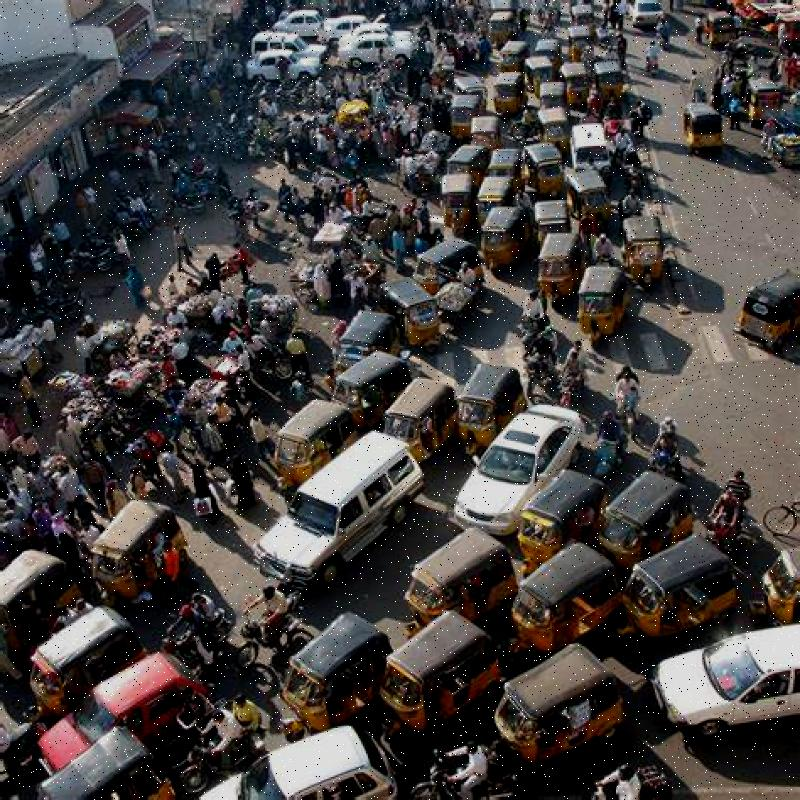auto: (253, 609, 418, 734), (616, 509, 746, 663), (378, 597, 504, 750), (489, 531, 628, 666)
car: (242, 435, 447, 601), (461, 384, 599, 534)
